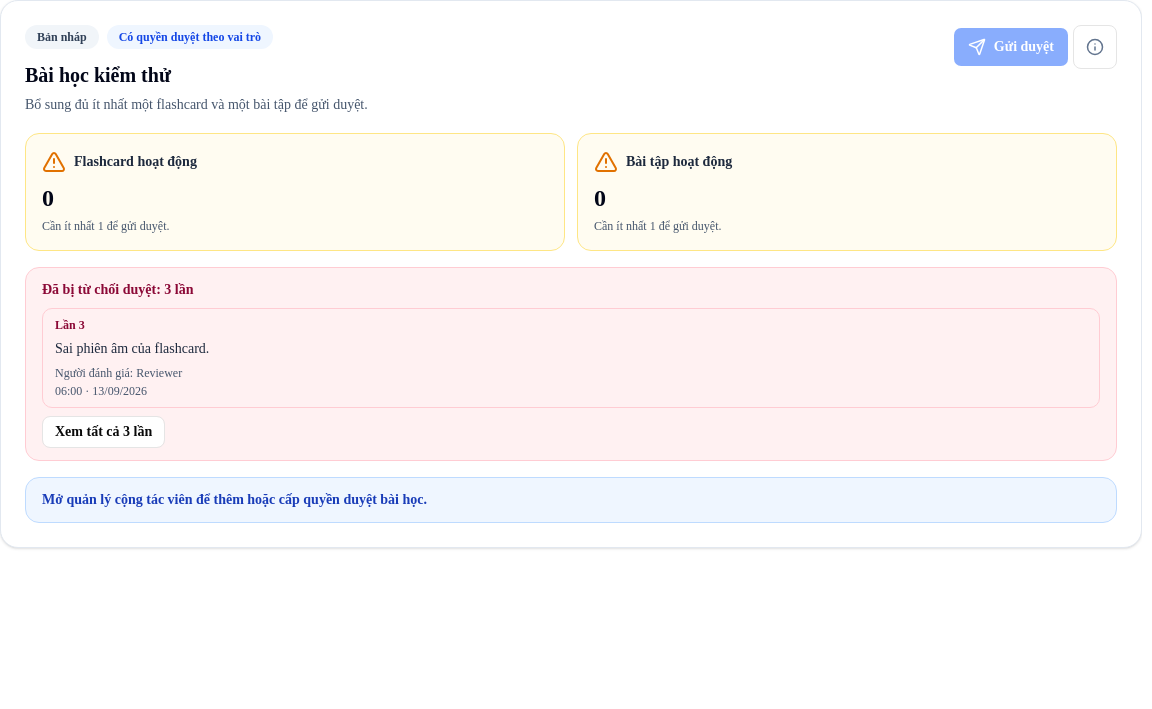
Scenario: TopicWorkflowPanel › renders the topic-scoped rejection history with the latest item open by default
Expected: the text "Đã bị từ chối duyệt: 3 lần" is shown, [42,282,194,297]
Expected: the text "Lần 3" is shown, [55,318,85,332]
Click the button "Xem tất cả 3 lần". click: (104, 432)
box: [42,416,165,448]
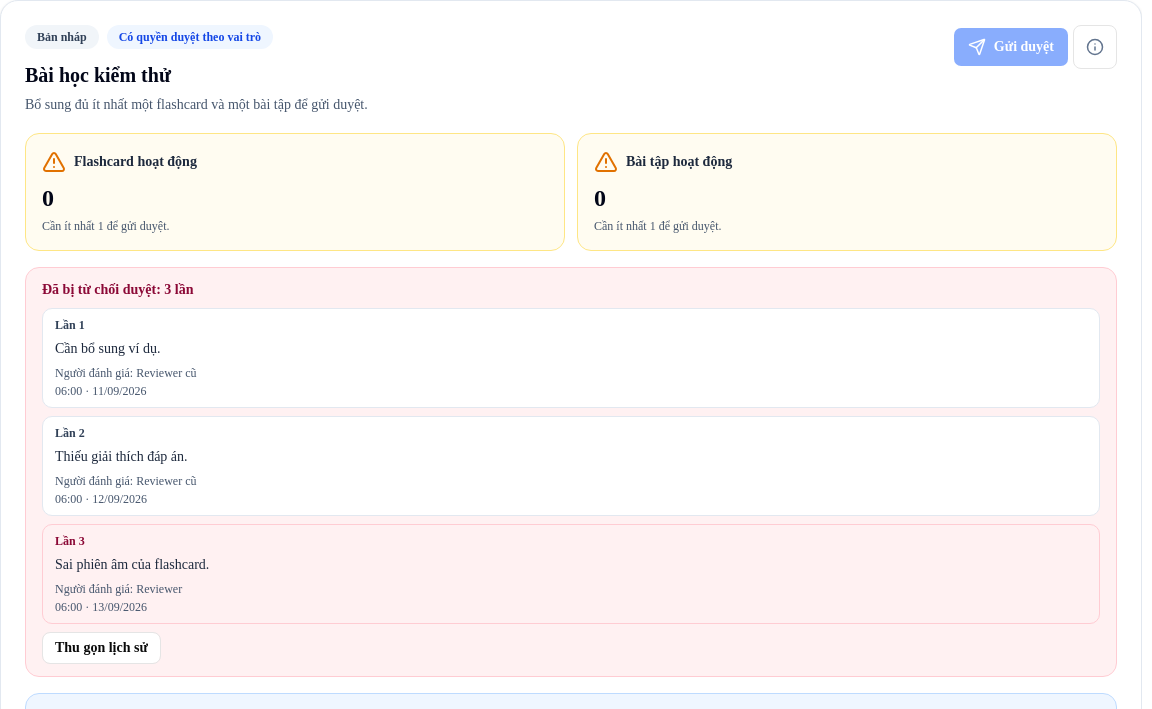
Expected: the text "Lần 1" is shown, [55,318,85,332]
Expected: the text "Lần 2" is shown, [55,426,85,440]
Expected: the text "Người đánh giá: Reviewer cũ" is shown 2 times, [55,366,196,380]; [55,474,196,488]
